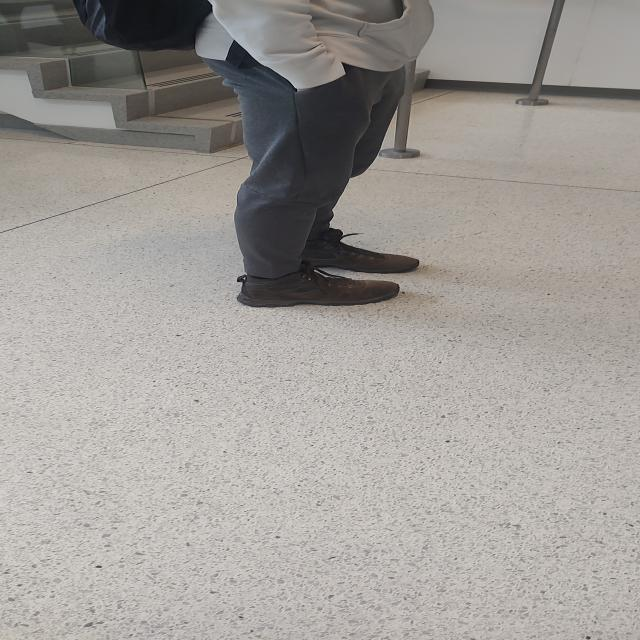Boots: (233, 268, 410, 307), (294, 227, 426, 279)
